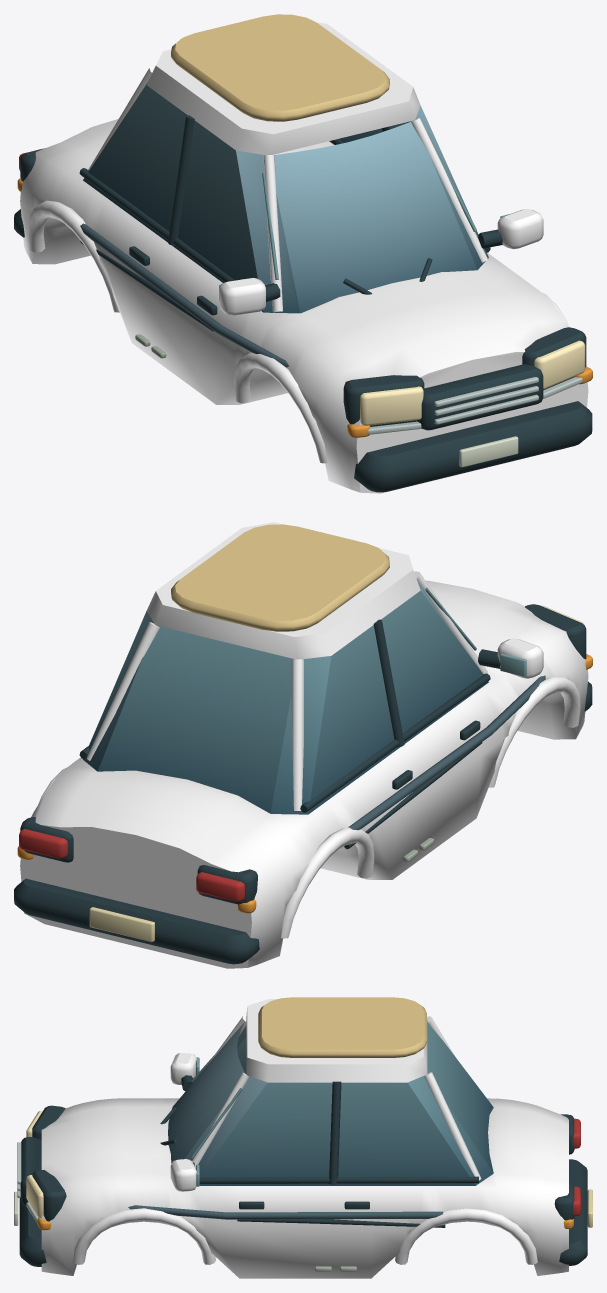
File: cove.glb
3 views of the same model, one above another, from view 1: azimuth 30°, elevation 25°; view 2: azimuth 150°, elevation 25°; view 3: azimuth 270°, elevation 25° (orthographic). The views are drawn at different scales.
Parts seen in each view (by area): view 1: Chassis, Headlamps; view 2: Chassis, BrakeLamps; view 3: Chassis, Headlamps, BrakeLamps.
Boxes of the visible parts, x1,y1,x2,y2 form: Chassis: [14, 14, 592, 493]; Headlamps: [360, 340, 585, 425]; Chassis: [14, 522, 592, 968]; BrakeLamps: [19, 829, 244, 901]; Chassis: [14, 997, 592, 1278]; Headlamps: [26, 1110, 43, 1218]; BrakeLamps: [573, 1118, 580, 1216].
Size of the model in its own units: 1.61 by 1.29 by 3.23.
